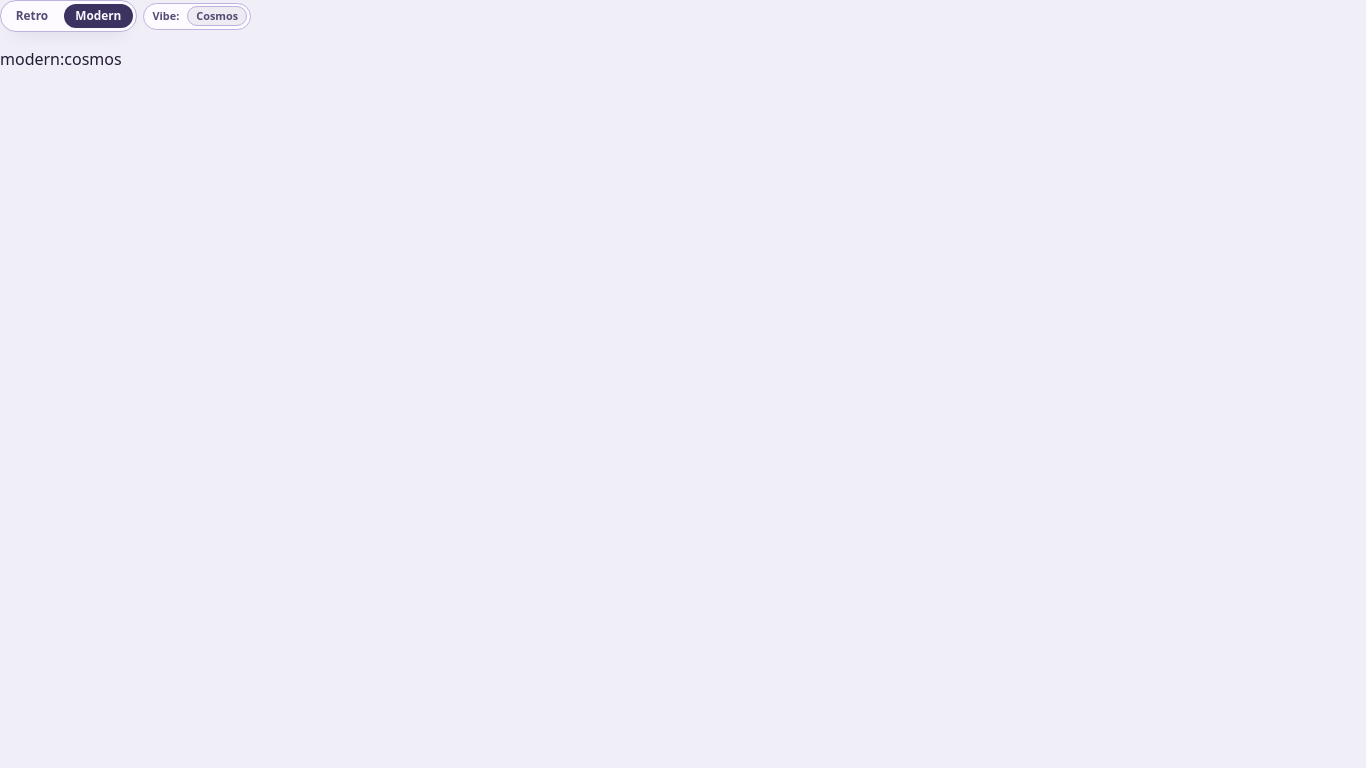
it: UiStyleSync and StyleToggle › honors stored style and query palette, then supports explicit palette selection
The image size is (1366, 768).
Expected: the text with test id "current-theme" reads "modern:cosmos", [0,48,122,70]
Click the button with aria-label "Select modern vibe. Current vibe is Cosmos".
click(217, 16)  # box [187,6,248,26]
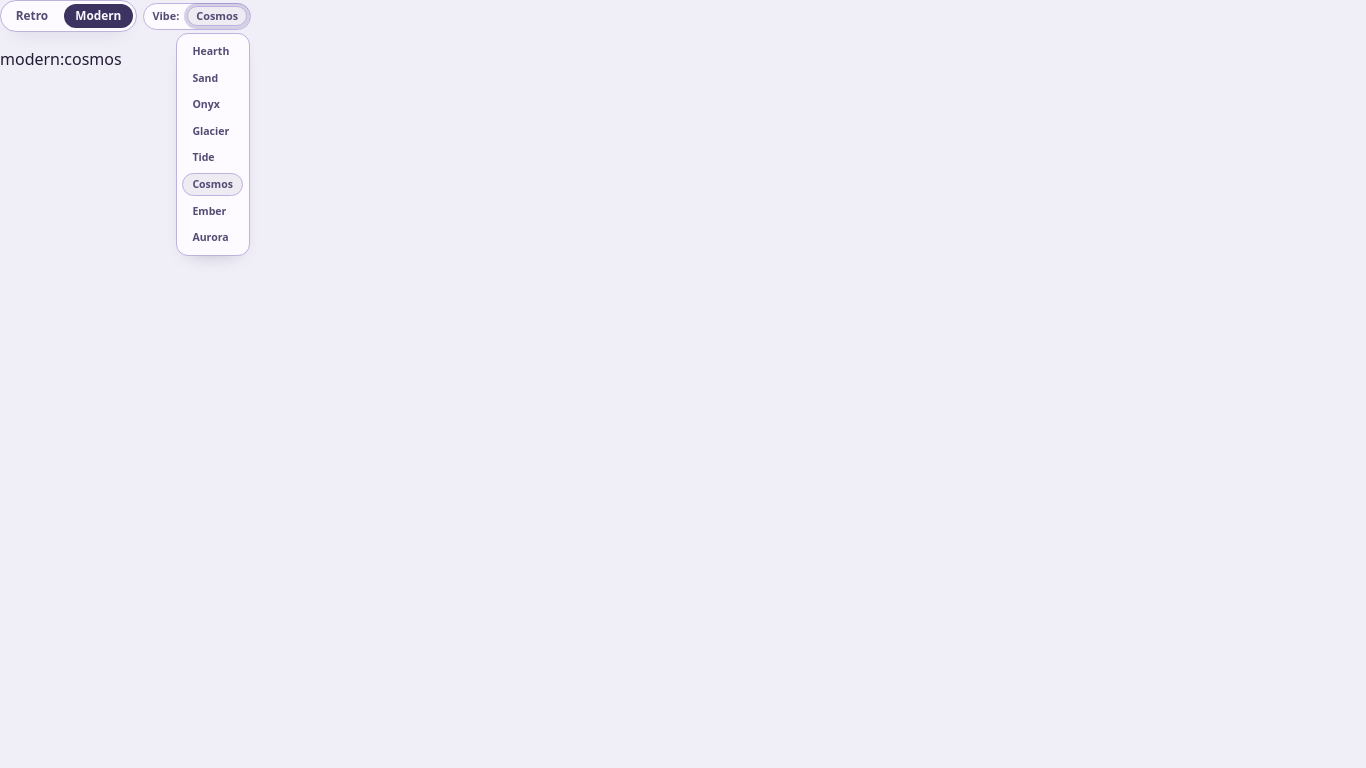
Click the option "Aurora".
click(213, 238)  # box [182,226,243,249]
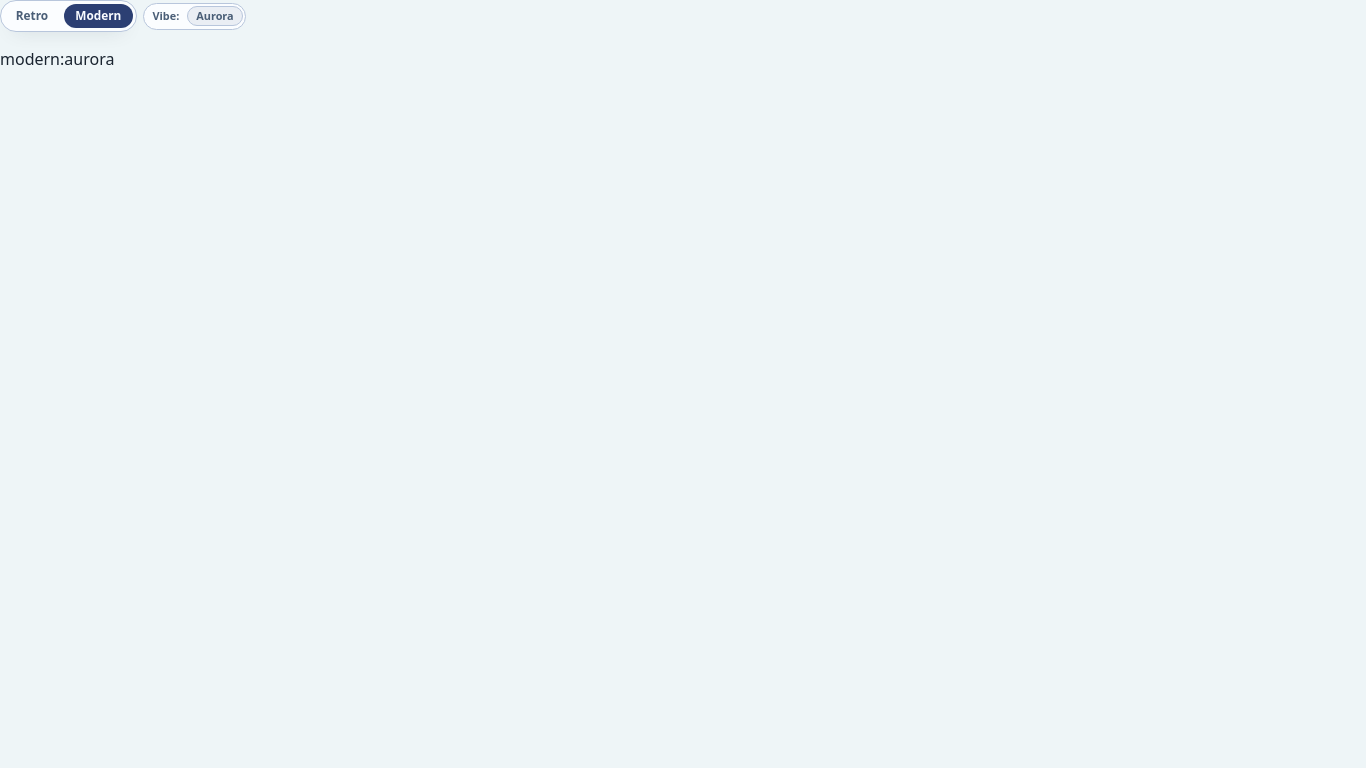
Now the text with test id "current-theme" reads "modern:aurora", box [0,48,114,70]
Now the button with aria-label "Select modern vibe. Current vibe is Aurora" is collapsed, box [187,6,243,26]
